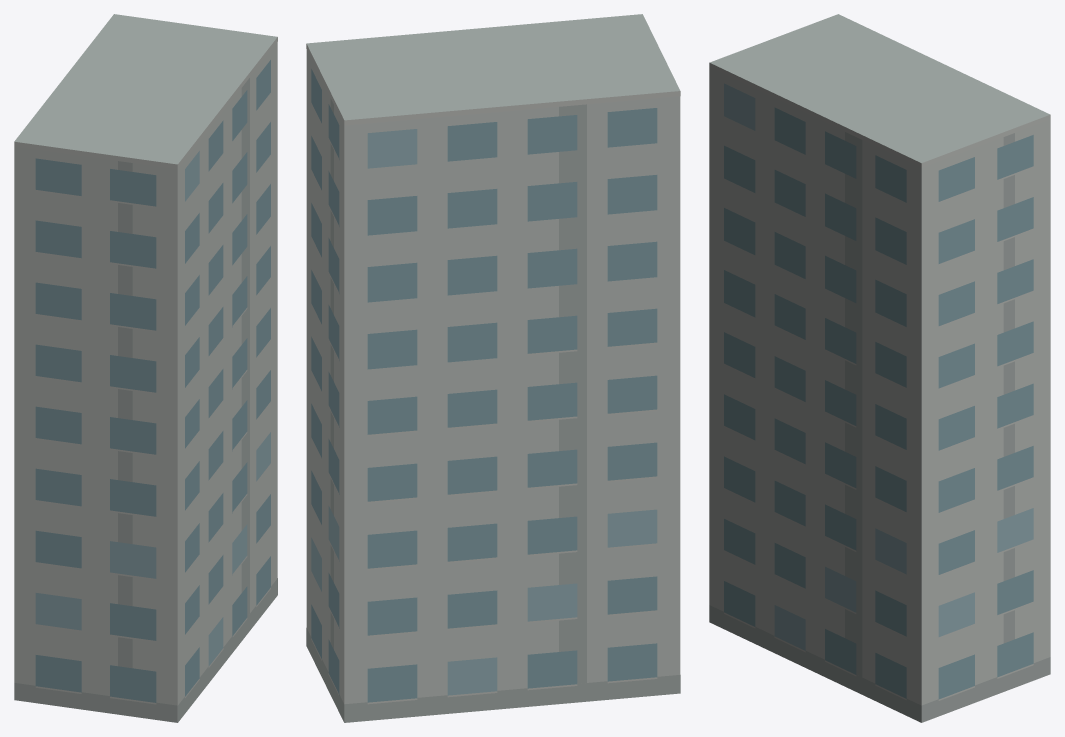
Rendered from residential-f29a460b-6e85-44dc-a835-2eda31bc024b.glb.
The picture shows the model from 3 angles, left to right: view 1: azimuth 30°, elevation 25°; view 2: azimuth 150°, elevation 25°; view 3: azimuth 270°, elevation 25°; orthographic projection. The views are drawn at different scales.
Visible parts, largest first — view 1: residential-f29a460b-6e85-44dc-a835-2eda31bc024b.tmp; view 2: residential-f29a460b-6e85-44dc-a835-2eda31bc024b.tmp; view 3: residential-f29a460b-6e85-44dc-a835-2eda31bc024b.tmp.
Boxes of the visible parts, x1=… form: residential-f29a460b-6e85-44dc-a835-2eda31bc024b.tmp: x1=14, y1=14, x2=277, y2=722; residential-f29a460b-6e85-44dc-a835-2eda31bc024b.tmp: x1=306, y1=14, x2=680, y2=722; residential-f29a460b-6e85-44dc-a835-2eda31bc024b.tmp: x1=709, y1=14, x2=1050, y2=722.
Bounding box in the file's own units: 16.02 × 28 × 15.47.
